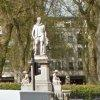Statue: (25, 10, 59, 78)
